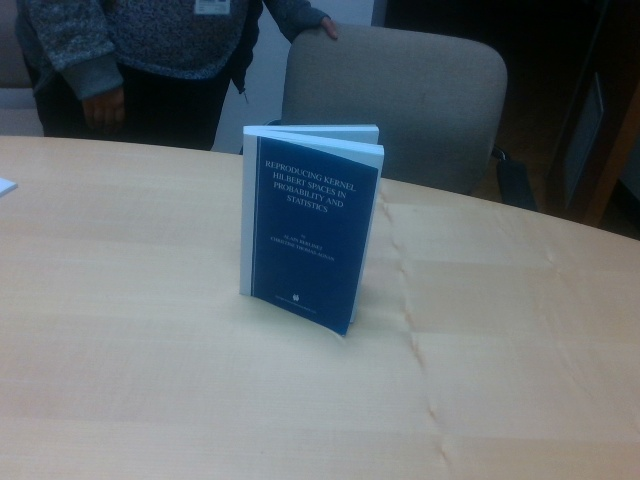book: (240, 121, 384, 338)
